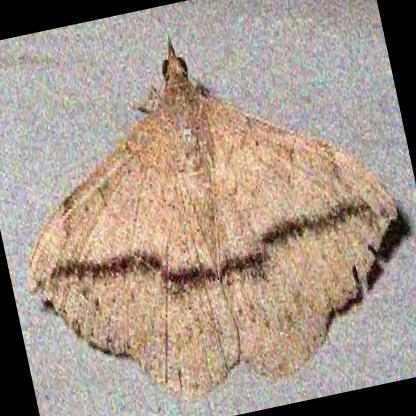Leaf Webber: (22, 28, 401, 403)
